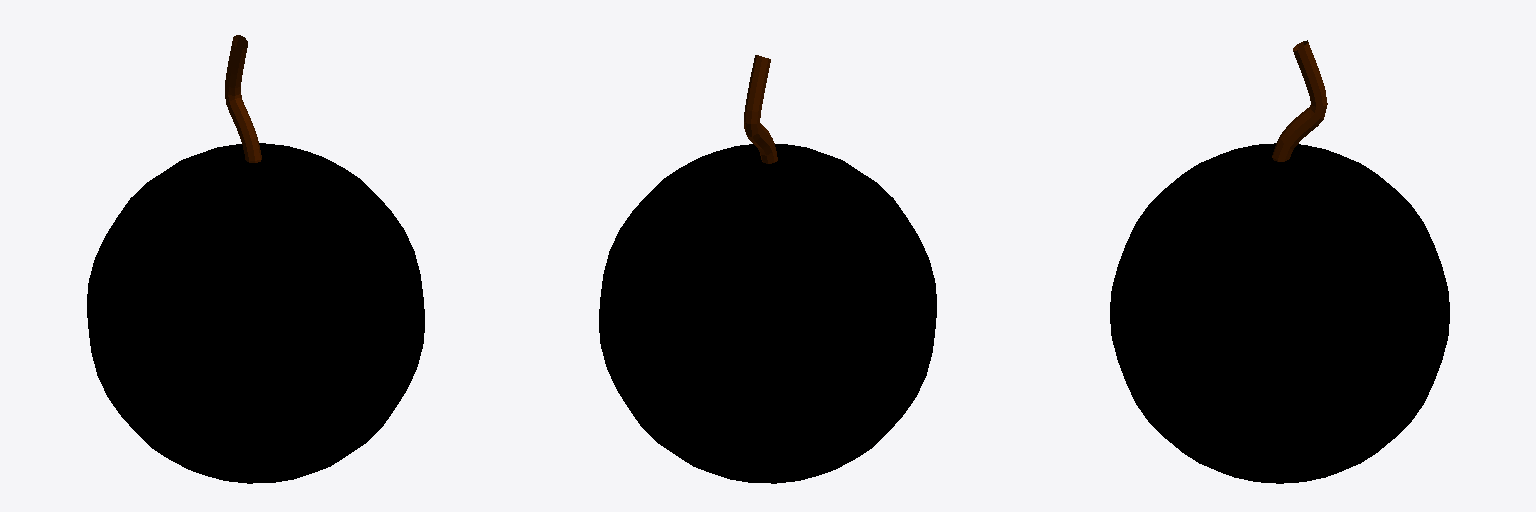
The model's file is bomb.obj.
The picture shows the model from 3 angles: view 1: azimuth 30°, elevation 25°; view 2: azimuth 150°, elevation 25°; view 3: azimuth 270°, elevation 25°; orthographic projection.
Visible parts, largest first — view 1: pSphere1, nurbsToPoly1; view 2: pSphere1, nurbsToPoly1; view 3: pSphere1, nurbsToPoly1.
Part boxes in pixels (x1,y1,x2,y2): pSphere1: (87, 143, 424, 483); nurbsToPoly1: (225, 35, 261, 162); pSphere1: (599, 144, 936, 483); nurbsToPoly1: (744, 55, 777, 163); pSphere1: (1110, 143, 1449, 483); nurbsToPoly1: (1272, 40, 1327, 161).
Size of the model in its own units: 2 by 2.74 by 2.